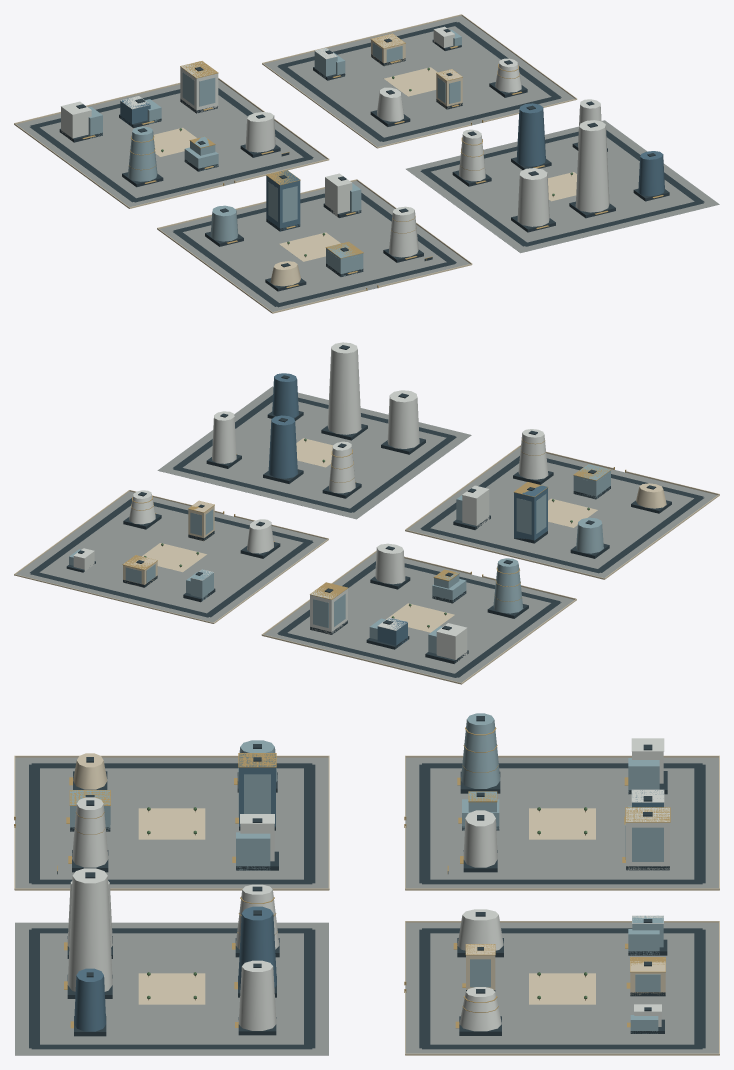
File: GC-TILE-16-20.glb
3 views of the same model, one above another, from view 1: azimuth 30°, elevation 25°; view 2: azimuth 150°, elevation 25°; view 3: azimuth 270°, elevation 25° (orthographic). The views are drawn at different scales.
Parts seen in each view (by area): view 1: GC-TILE-16-20-paving, GC-TILE-16-20-dark, GC-TILE-16-20-white, GC-TILE-16-20-ivory, GC-TILE-16-20-glass, GC-TILE-16-20-blue, GC-TILE-16-20-gold; view 2: GC-TILE-16-20-paving, GC-TILE-16-20-dark, GC-TILE-16-20-white, GC-TILE-16-20-ivory, GC-TILE-16-20-glass, GC-TILE-16-20-blue, GC-TILE-16-20-gold; view 3: GC-TILE-16-20-paving, GC-TILE-16-20-dark, GC-TILE-16-20-white, GC-TILE-16-20-ivory, GC-TILE-16-20-glass, GC-TILE-16-20-blue, GC-TILE-16-20-gold.
Boxes of the visible parts, x1,y1,x2,y2 form: GC-TILE-16-20-paving: (16, 15, 719, 311); GC-TILE-16-20-dark: (30, 22, 704, 307); GC-TILE-16-20-white: (61, 26, 609, 257); GC-TILE-16-20-ivory: (14, 14, 577, 313); GC-TILE-16-20-glass: (88, 29, 461, 276); GC-TILE-16-20-blue: (120, 98, 664, 231); GC-TILE-16-20-gold: (82, 33, 663, 290); GC-TILE-16-20-paving: (16, 386, 717, 682); GC-TILE-16-20-dark: (30, 345, 704, 677); GC-TILE-16-20-white: (73, 342, 548, 661); GC-TILE-16-20-ivory: (14, 438, 719, 684); GC-TILE-16-20-glass: (69, 464, 610, 653); GC-TILE-16-20-blue: (268, 373, 547, 646); GC-TILE-16-20-gold: (122, 438, 626, 601); GC-TILE-16-20-paving: (15, 757, 718, 1055); GC-TILE-16-20-dark: (29, 716, 705, 1049); GC-TILE-16-20-white: (67, 738, 669, 1031); GC-TILE-16-20-ivory: (14, 753, 719, 1055); GC-TILE-16-20-glass: (70, 713, 663, 1033); GC-TILE-16-20-blue: (74, 753, 663, 1031); GC-TILE-16-20-gold: (14, 727, 670, 1028).
Bounding box in the file's own units: 759 × 136 × 760.
